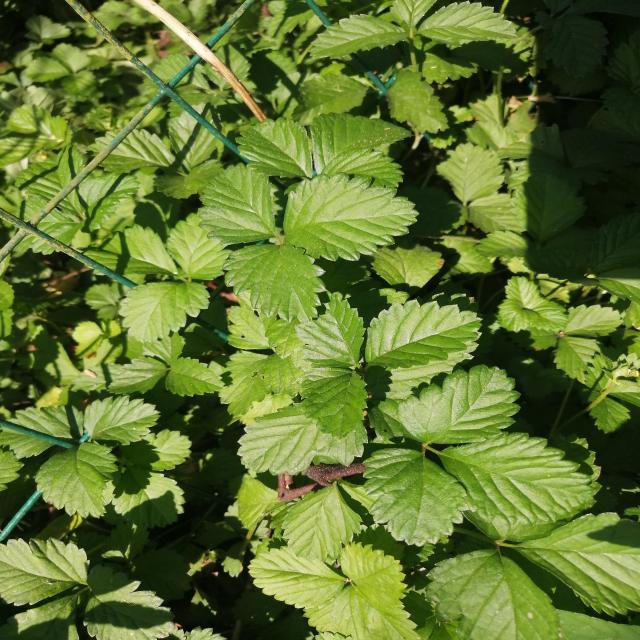Mock_strawberry: (351, 362, 600, 536), (188, 154, 410, 316), (280, 314, 512, 449)
